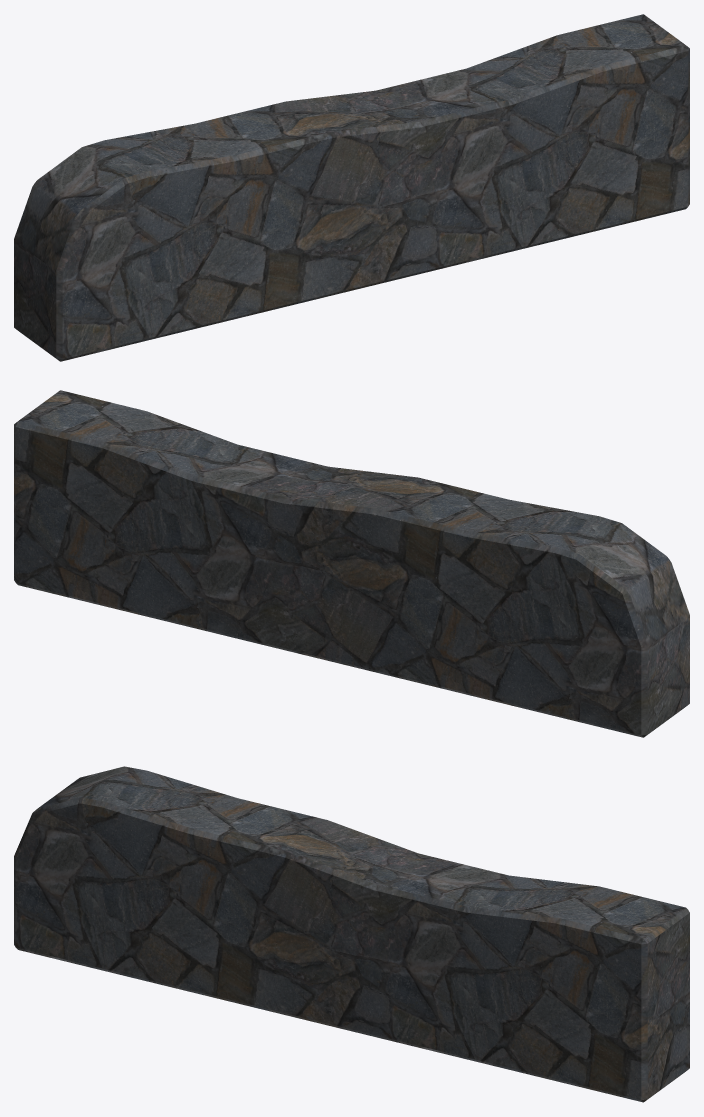
File: Fence5_2.fbx
The picture shows the model from 3 angles, top to bottom: view 1: azimuth 30°, elevation 25°; view 2: azimuth 150°, elevation 25°; view 3: azimuth 330°, elevation 25°; orthographic projection.
Parts seen in each view (by area): view 1: Fence5_2; view 2: Fence5_2; view 3: Fence5_2.
Part boxes in pixels (box(x1,y1,x2,y2)): Fence5_2: box(14, 14, 689, 361); Fence5_2: box(14, 390, 689, 737); Fence5_2: box(14, 766, 689, 1102).
Bounding box in the file's own units: 809 × 207 × 104.
Materials: 1 (1 with a texture image).
